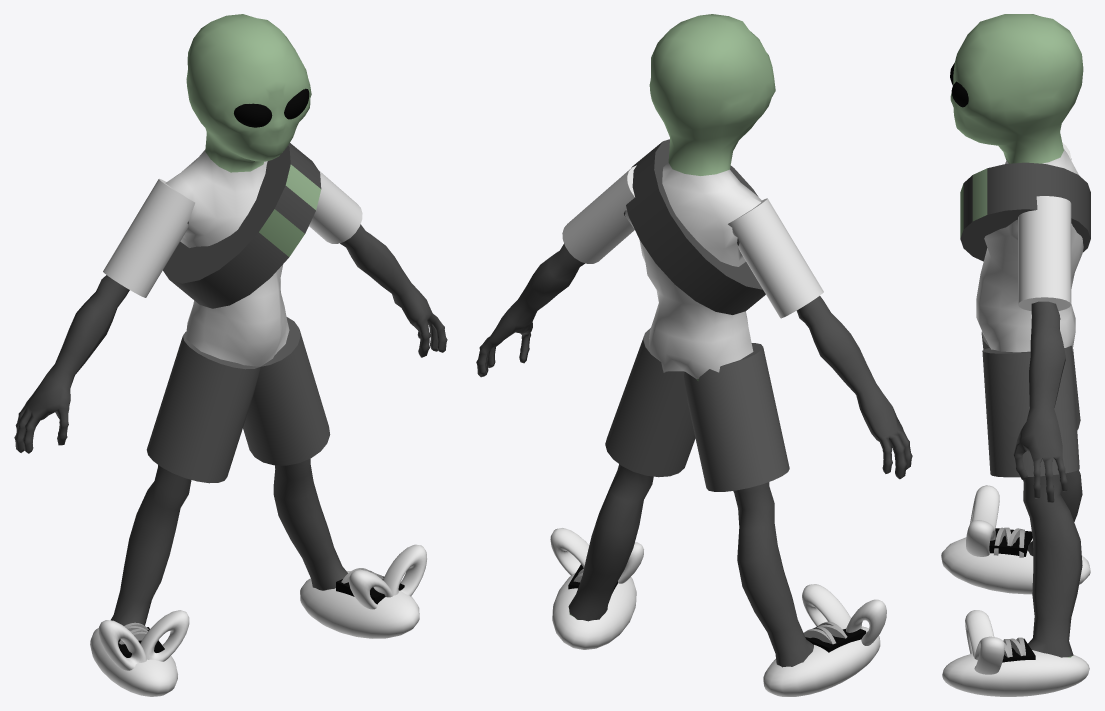
Rendered from sm_alien_1.fbx.
3 renders of one model, left to right at view 1: azimuth 30°, elevation 25°; view 2: azimuth 150°, elevation 25°; view 3: azimuth 270°, elevation 25°, orthographic. The views are drawn at different scales.
Visible parts, largest first — view 1: AlienWarrior; view 2: AlienWarrior; view 3: AlienWarrior.
Boxes of the visible parts, bbox=[...] form: AlienWarrior: bbox=[14, 14, 447, 696]; AlienWarrior: bbox=[476, 14, 912, 696]; AlienWarrior: bbox=[941, 14, 1090, 696].
Bounding box in the file's own units: 18.52 × 26.33 × 5.76.
